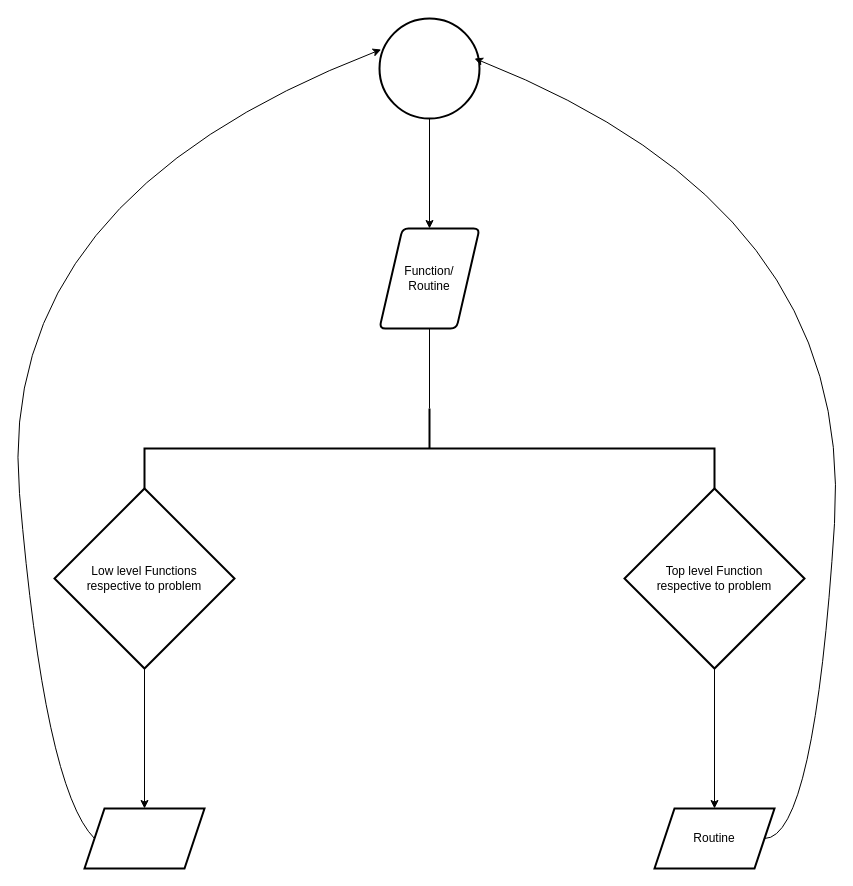
Some shapes in this 853 by 886 pixel diagram are drawn without their labels. Each missing label, with the centre of its shape:
Subroutine: (x=144, y=838)
Task/Problem to solve: (x=429, y=68)
